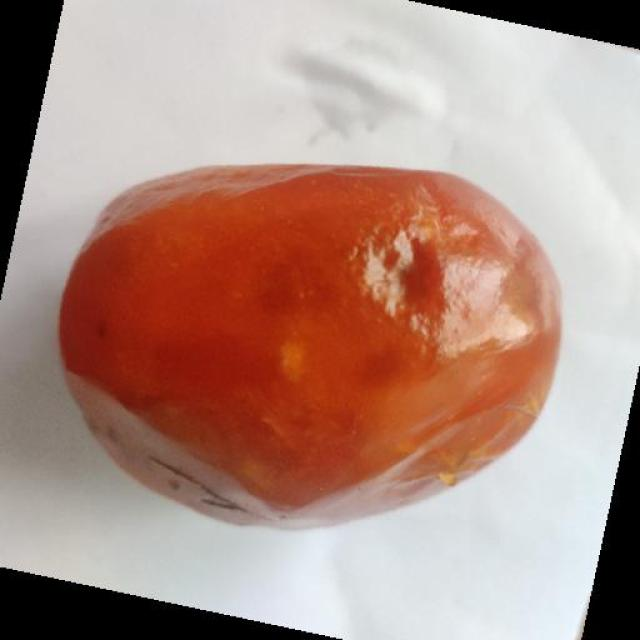Stale_tomato: (71, 163, 548, 496)
